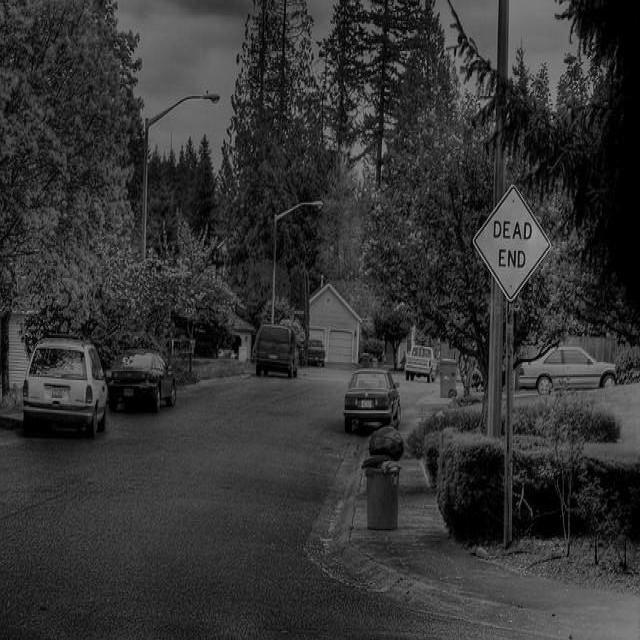vehicle: (19, 338, 111, 433), (517, 347, 617, 395), (108, 349, 178, 411), (342, 370, 400, 434), (253, 325, 297, 380), (405, 344, 439, 384), (305, 338, 325, 366), (216, 344, 234, 360)
